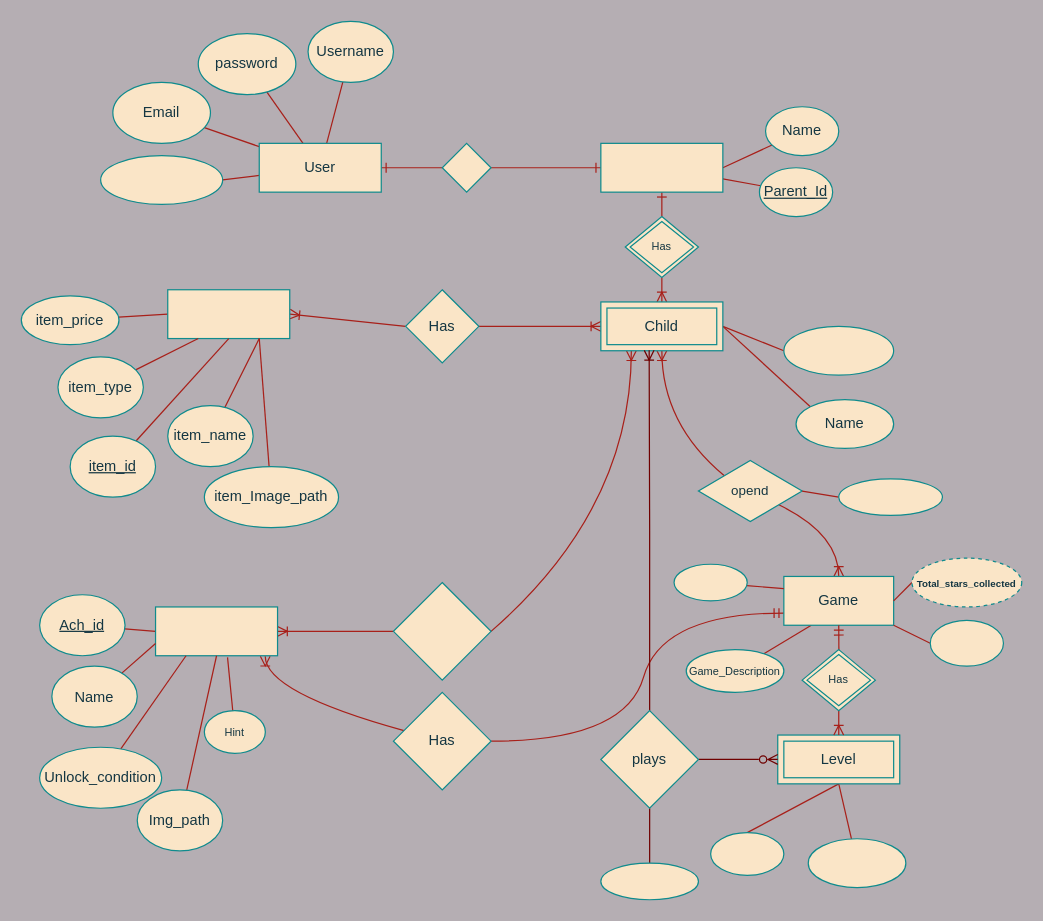
This 1043x921 diagram has some shape labels left out. Each missing label, with the box of its shape:
Achievements: (154, 606, 278, 656)
Child_id: (783, 325, 894, 375)
complete_level: (600, 862, 698, 900)
complete_state: (838, 478, 942, 515)
Game_id: (929, 619, 1003, 666)
Game_name: (673, 563, 747, 601)
Is: (441, 142, 491, 192)
level_id: (709, 831, 784, 875)
owns: (392, 581, 491, 680)
Parent: (600, 142, 723, 192)
Shop_items: (167, 289, 290, 339)
stars_collected: (807, 838, 906, 888)
User_Id: (99, 154, 223, 204)
